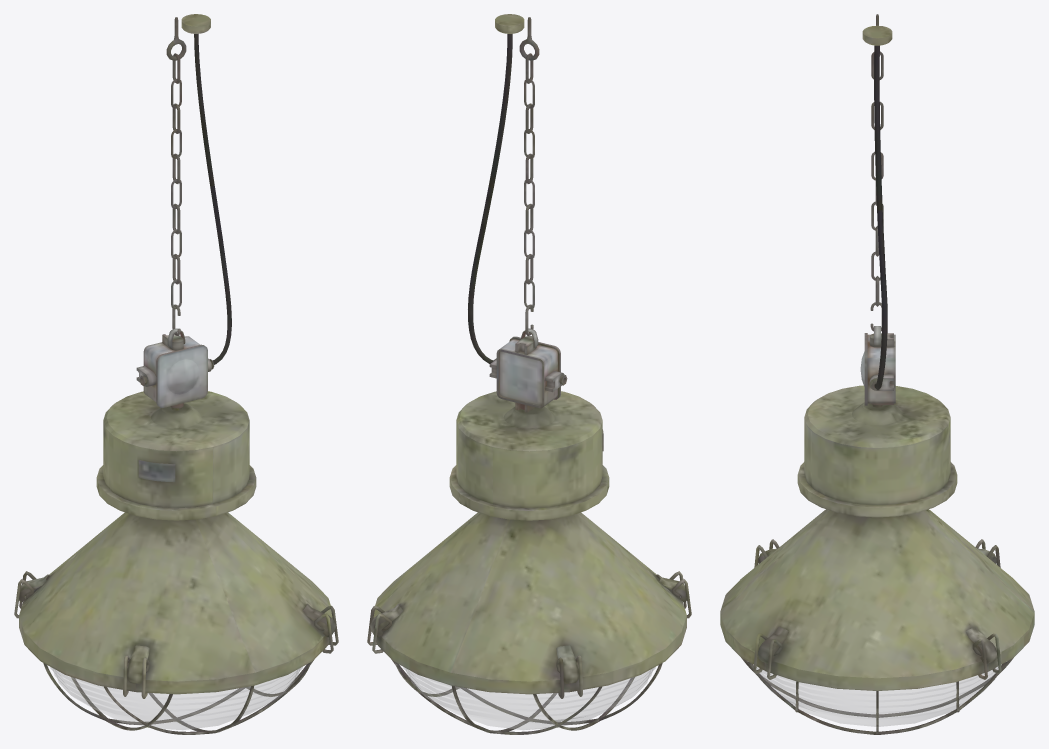
File: hanging_industrial_lamp.glb
3 views of the same model, side by side, from view 1: azimuth 30°, elevation 25°; view 2: azimuth 150°, elevation 25°; view 3: azimuth 270°, elevation 25° (orthographic).
Parts seen in each view (by area): view 1: hanging_industrial_lamp; view 2: hanging_industrial_lamp; view 3: hanging_industrial_lamp.
Boxes of the visible parts, x1,y1,x2,y2 form: hanging_industrial_lamp: [14, 14, 338, 734]; hanging_industrial_lamp: [367, 14, 691, 734]; hanging_industrial_lamp: [720, 14, 1034, 734].
Bounding box in the file's own units: 0.5497 × 1.36 × 0.5497.
Materials: 2 (1 with a texture image).
